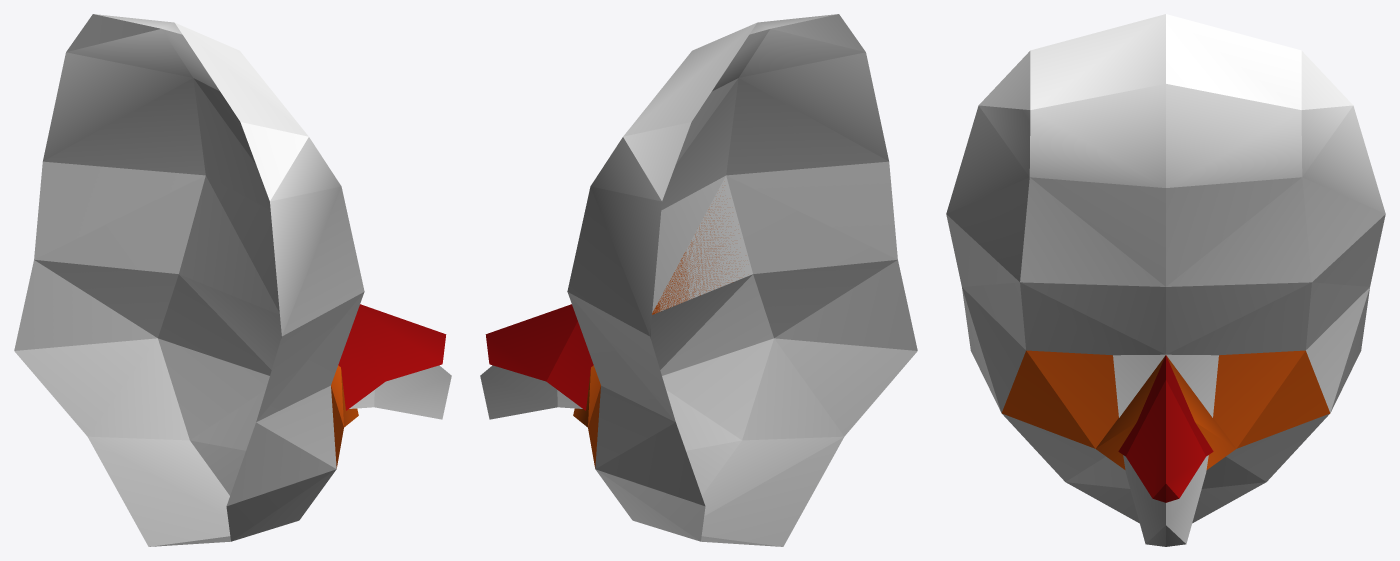
Rendered from Masks (14.02).fbx.
The picture shows the model from 3 angles, left to right: view 1: azimuth 30°, elevation 25°; view 2: azimuth 150°, elevation 25°; view 3: azimuth 270°, elevation 25°; orthographic projection. The views are drawn at different scales.
Visible parts, largest first — view 1: Arlecchino, Volto (MC), Il Capitano, Il Dottore, Pantalone (Boss); view 2: Arlecchino, Volto (MC), Il Dottore, Il Capitano, Pantalone (Boss); view 3: Arlecchino, Pantalone (Boss), Il Dottore, Volto (MC), Il Capitano.
Boxes of the visible parts, bbox=[...] form: Arlecchino: bbox=[34, 14, 364, 468]; Volto (MC): bbox=[14, 260, 336, 546]; Il Capitano: bbox=[338, 304, 446, 410]; Il Dottore: bbox=[175, 23, 451, 419]; Pantalone (Boss): bbox=[331, 365, 358, 468]; Arlecchino: bbox=[567, 14, 897, 468]; Volto (MC): bbox=[595, 260, 917, 546]; Il Dottore: bbox=[480, 14, 834, 419]; Il Capitano: bbox=[485, 304, 593, 410]; Pantalone (Boss): bbox=[573, 206, 737, 468]; Arlecchino: bbox=[946, 14, 1385, 412]; Pantalone (Boss): bbox=[1002, 350, 1329, 469]; Il Dottore: bbox=[1020, 282, 1311, 546]; Volto (MC): bbox=[962, 288, 1369, 523]; Il Capitano: bbox=[1118, 355, 1213, 502].
Size of the model in its own units: 19.97 by 30.53 by 24.95.
